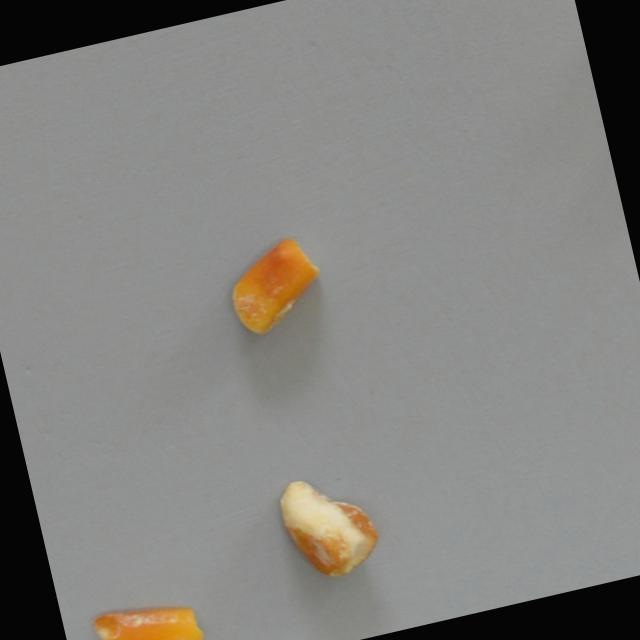dañado: (272, 466, 387, 588), (222, 233, 331, 338)
pelicula: (85, 585, 206, 640)
